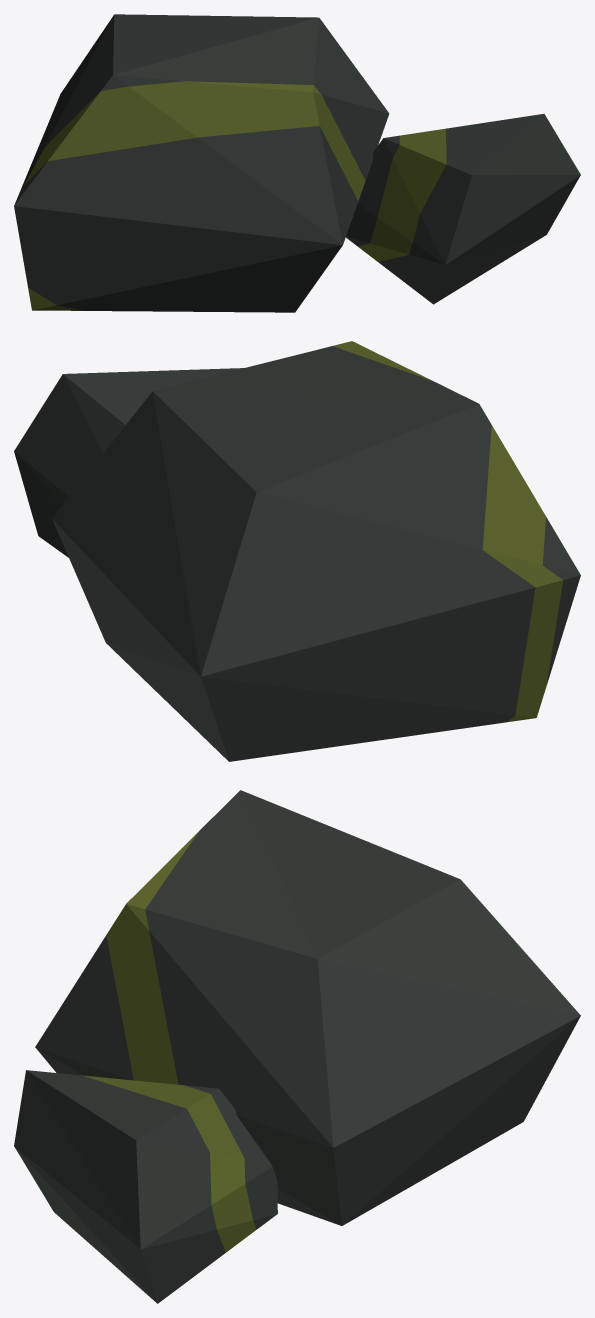
The model's file is ore_uranium_v03_lod1.glb.
3 renders of one model, top to bottom at view 1: azimuth 30°, elevation 25°; view 2: azimuth 150°, elevation 25°; view 3: azimuth 270°, elevation 25°, orthographic. The views are drawn at different scales.
Parts seen in each view (by area): view 1: ore_uranium_v03_lod1; view 2: ore_uranium_v03_lod1; view 3: ore_uranium_v03_lod1.
Boxes of the visible parts, bbox=[...] form: ore_uranium_v03_lod1: bbox=[14, 14, 580, 312]; ore_uranium_v03_lod1: bbox=[14, 341, 580, 761]; ore_uranium_v03_lod1: bbox=[14, 790, 580, 1303].
Bounding box in the file's own units: 2.5 × 1.07 × 1.97.
